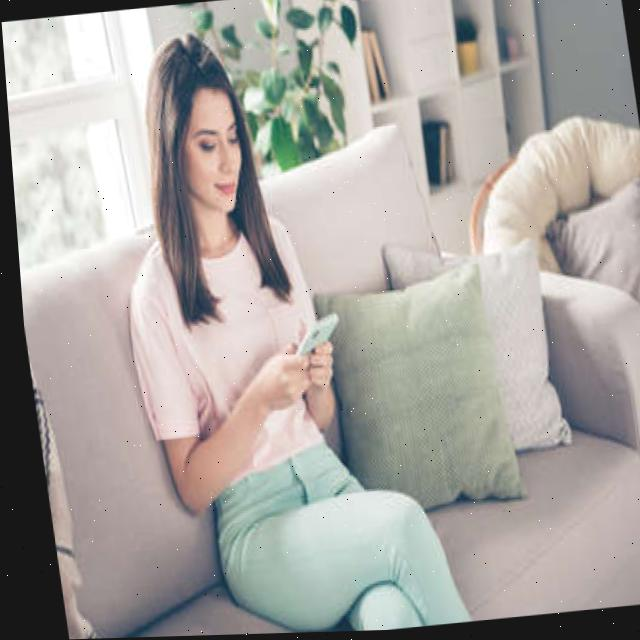smartphone-person: (76, 0, 479, 638)
